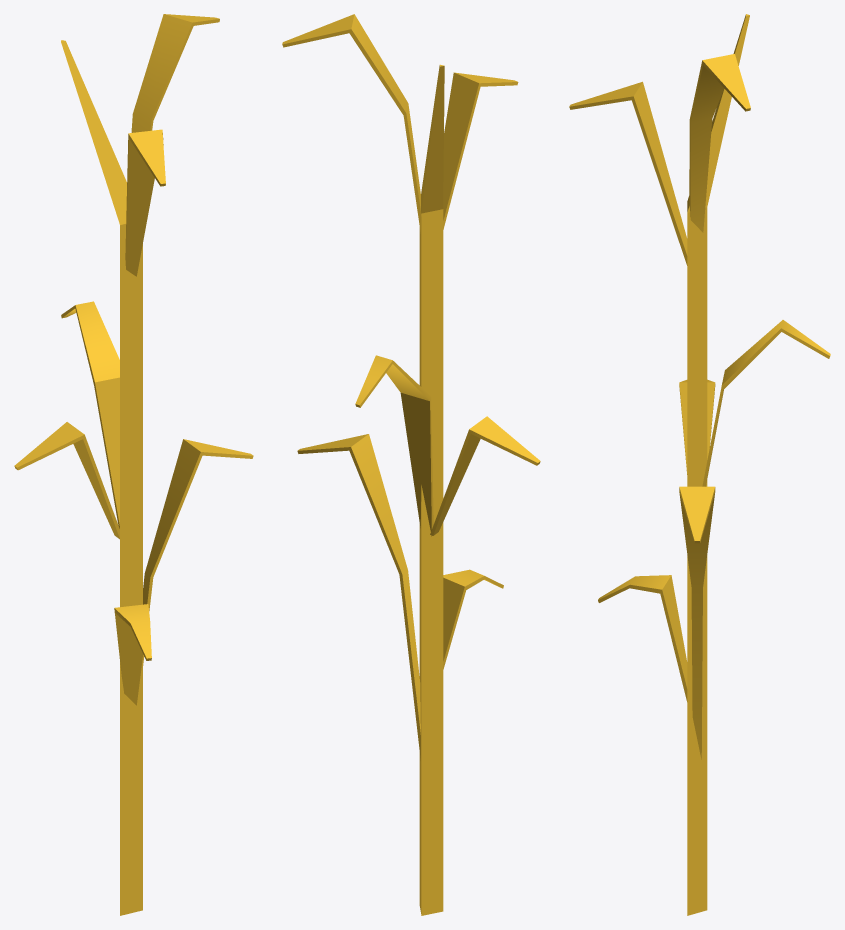
File: long_plant_2.FBX
3 views of the same model, side by side, from view 1: azimuth 30°, elevation 25°; view 2: azimuth 150°, elevation 25°; view 3: azimuth 270°, elevation 25° (orthographic).
Parts seen in each view (by area): view 1: Long_plant_2; view 2: Long_plant_2; view 3: Long_plant_2.
Part boxes in pixels (box(x1,y1,x2,y2)): Long_plant_2: box(14, 14, 253, 915); Long_plant_2: box(282, 14, 540, 915); Long_plant_2: box(569, 14, 830, 915).
Bounding box in the file's own units: 0.3119 × 1.09 × 0.2934.
Materials: 1 (1 with a texture image).
